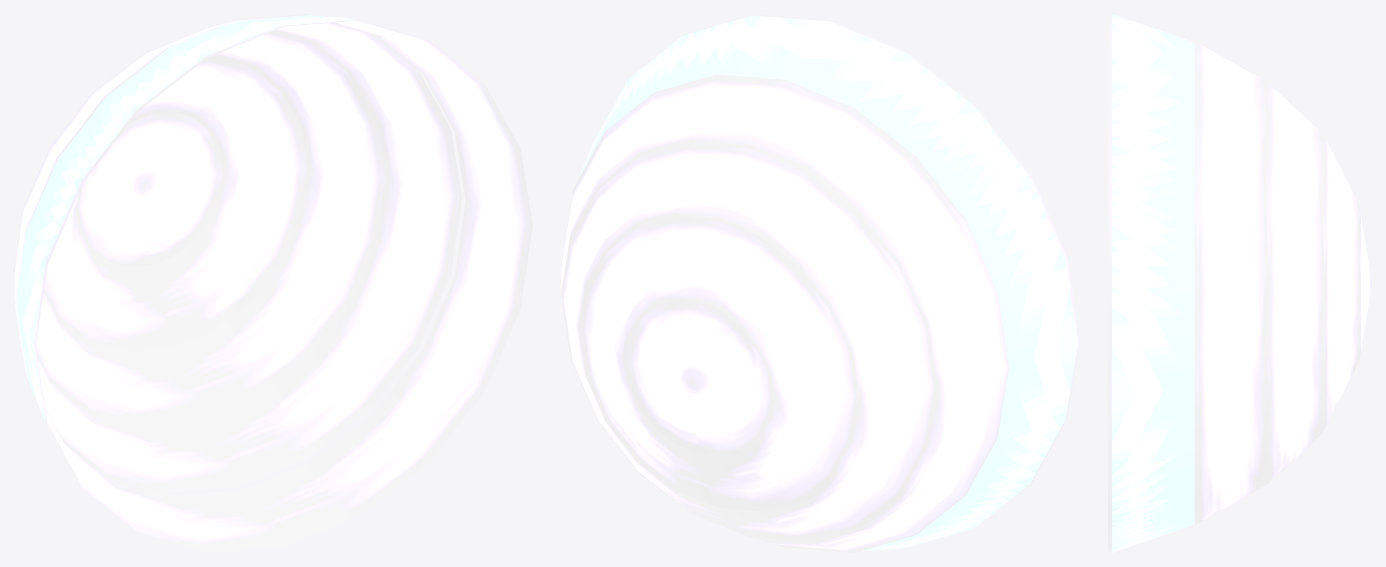
The model's file is sfx_common_guard.glb.
3 renders of one model, left to right at view 1: azimuth 30°, elevation 25°; view 2: azimuth 150°, elevation 25°; view 3: azimuth 270°, elevation 25°, orthographic. The views are drawn at different scales.
Visible parts, largest first — view 1: sfx_common_guard; view 2: sfx_common_guard; view 3: sfx_common_guard.
Part boxes in pixels (x1,y1,x2,y2): sfx_common_guard: [14, 14, 532, 552]; sfx_common_guard: [561, 14, 1079, 552]; sfx_common_guard: [1108, 14, 1371, 552].
Size of the model in its own units: 4.66 by 4.66 by 2.26.
2 materials, 2 textured.
